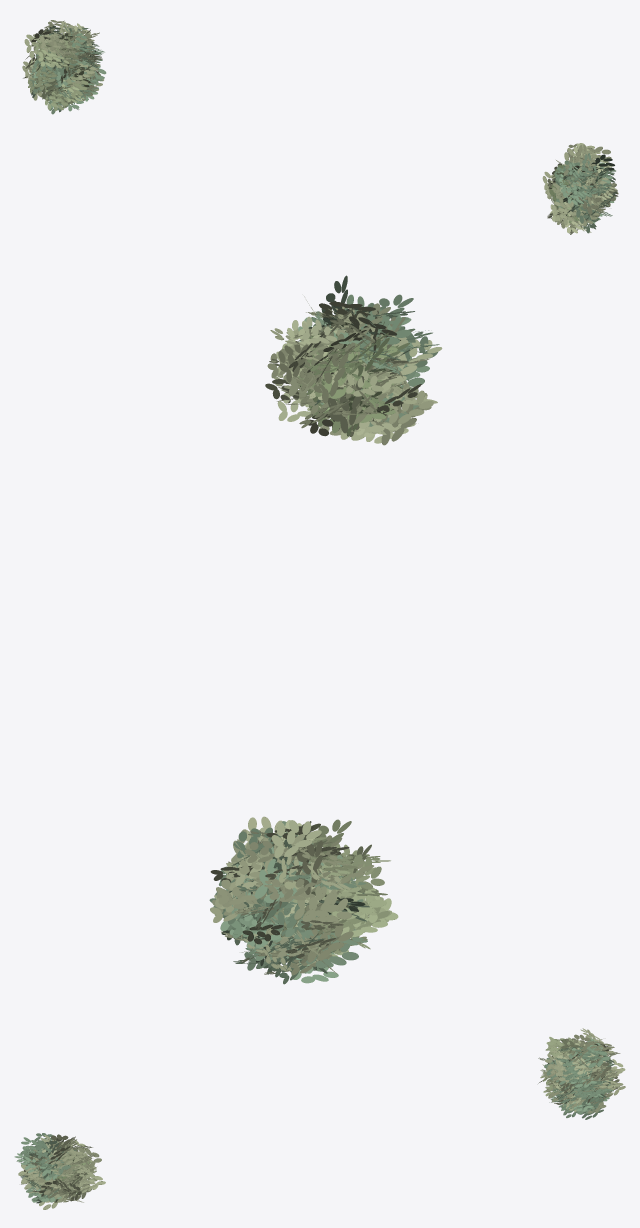
File: campus-tree--3_-2-middle.glb
3 renders of one model, top to bottom at view 1: azimuth 30°, elevation 25°; view 2: azimuth 150°, elevation 25°; view 3: azimuth 270°, elevation 25°, orthographic. The views are drawn at different scales.
Visible parts, largest first — view 1: Campus leaf canopy; view 2: Campus leaf canopy; view 3: Campus leaf canopy.
Boxes of the visible parts, x1=… form: Campus leaf canopy: x1=22, y1=20, x2=618, y2=234; Campus leaf canopy: x1=209, y1=275, x2=442, y2=984; Campus leaf canopy: x1=14, y1=1028, x2=625, y2=1209.
Size of the model in its own units: 20.38 by 6.4 by 34.75.
Materials: 1 (1 with a texture image).
